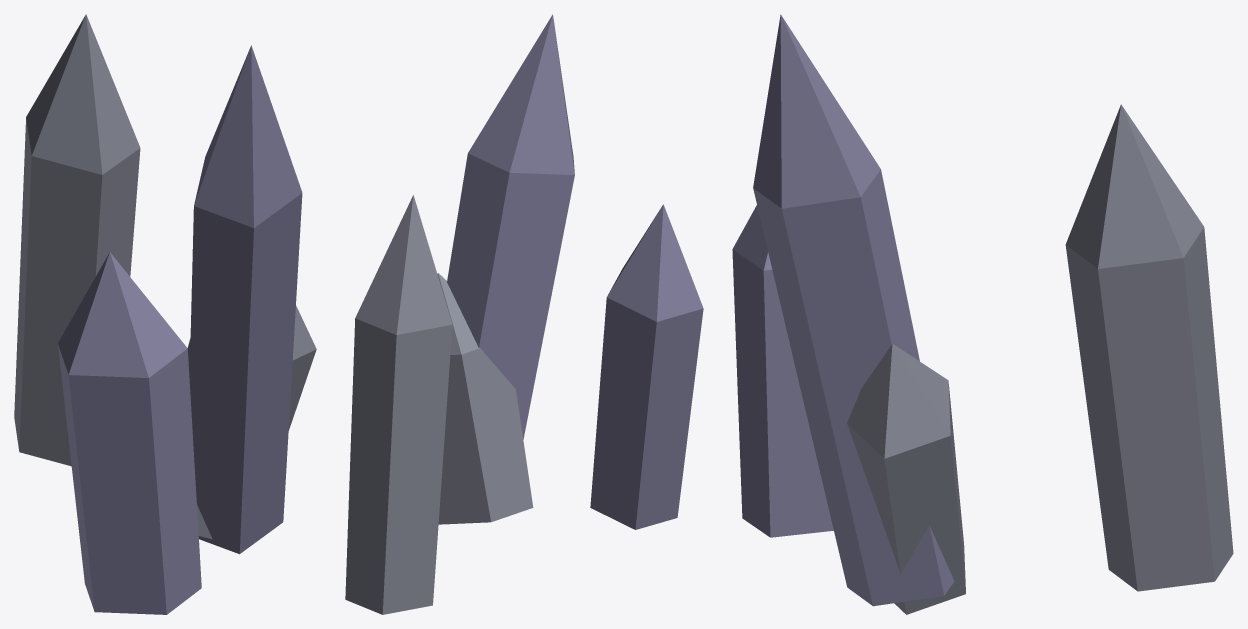
File: plant-crystalSpray.glb
The picture shows the model from 3 angles, left to right: view 1: azimuth 30°, elevation 25°; view 2: azimuth 150°, elevation 25°; view 3: azimuth 270°, elevation 25°; orthographic projection. The views are drawn at different scales.
Visible parts, largest first — view 1: plant-crystalSpray; view 2: plant-crystalSpray; view 3: plant-crystalSpray.
Boxes of the visible parts, x1,y1,x2,y2 form: plant-crystalSpray: (14,14,316,614); plant-crystalSpray: (345,14,703,614); plant-crystalSpray: (732,14,1233,614).
Bounding box in the file's own units: 0.5293 × 0.9369 × 0.7491.
